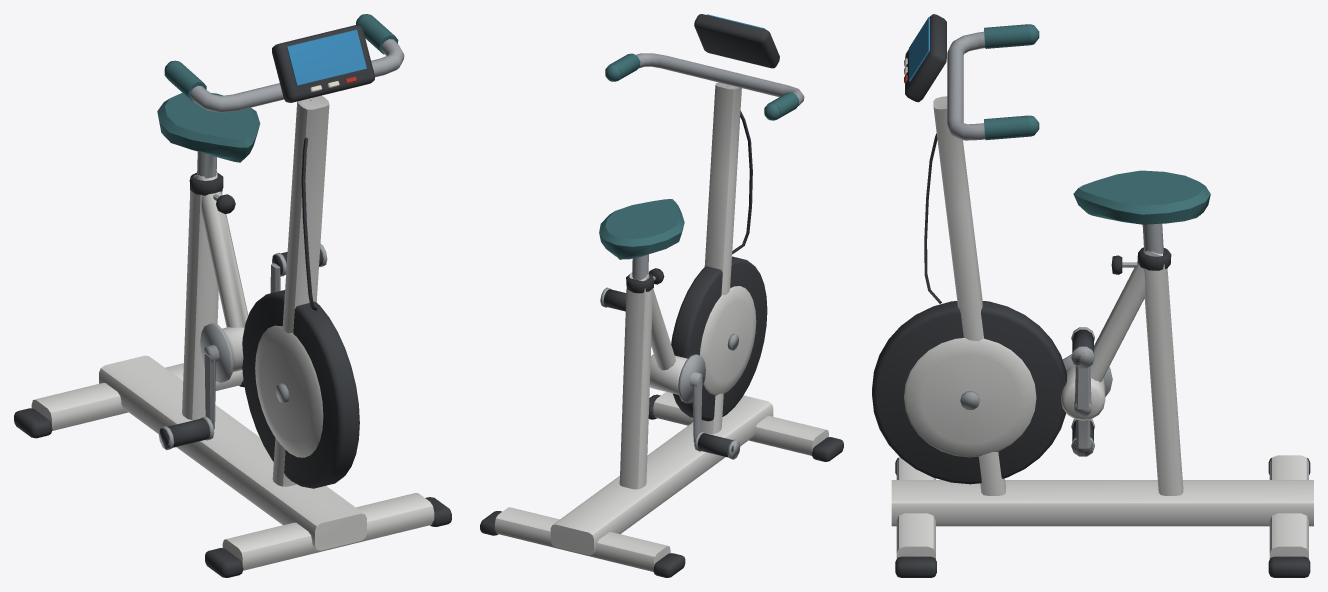
The model's file is exerciseBike.glb.
The picture shows the model from 3 angles, left to right: view 1: azimuth 30°, elevation 25°; view 2: azimuth 150°, elevation 25°; view 3: azimuth 270°, elevation 25°; orthographic projection. The views are drawn at different scales.
Parts seen in each view (by area): view 1: body, pedals; view 2: body, pedals; view 3: body, pedals.
Part boxes in pixels (<box>): body: <box>14,14,451,577</box>; pedals: <box>158,244,327,450</box>; body: <box>480,14,843,577</box>; pedals: <box>600,287,740,459</box>; body: <box>872,14,1313,577</box>; pedals: <box>1063,327,1112,456</box>.
Bounding box in the file's own units: 0.53 × 1.11 × 0.9.
